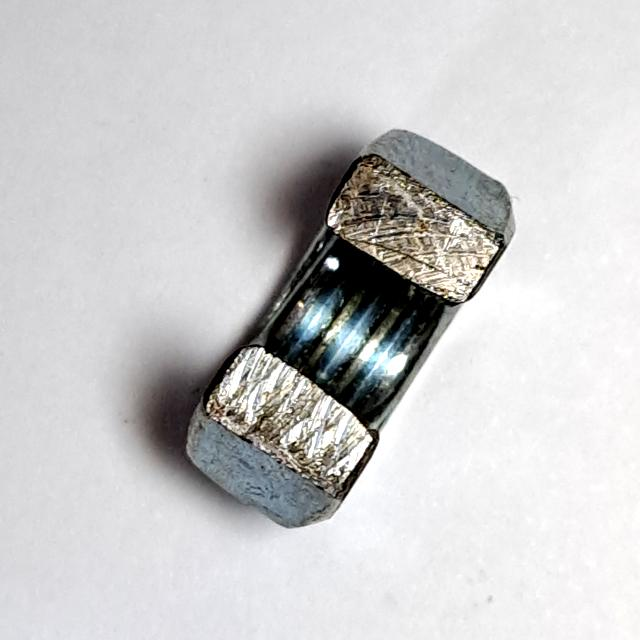Side-Fracture: (179, 124, 525, 541)
